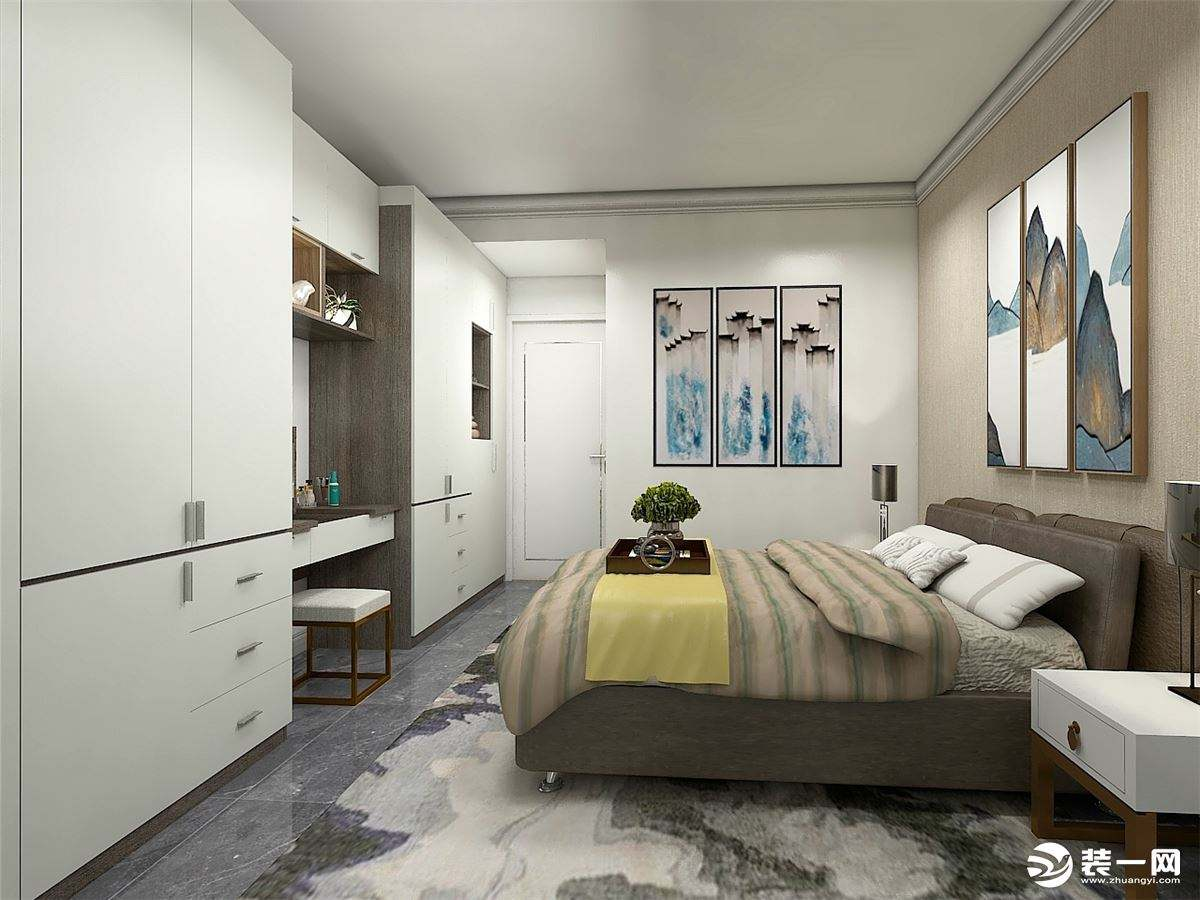床: (500, 523, 1095, 801)
枕头: (872, 525, 1090, 628)
灯: (1152, 468, 1200, 698), (868, 461, 912, 543)
